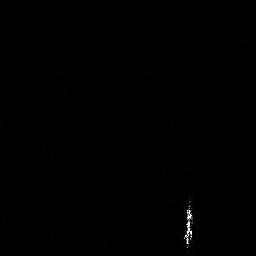ship: (180, 195, 199, 248)
